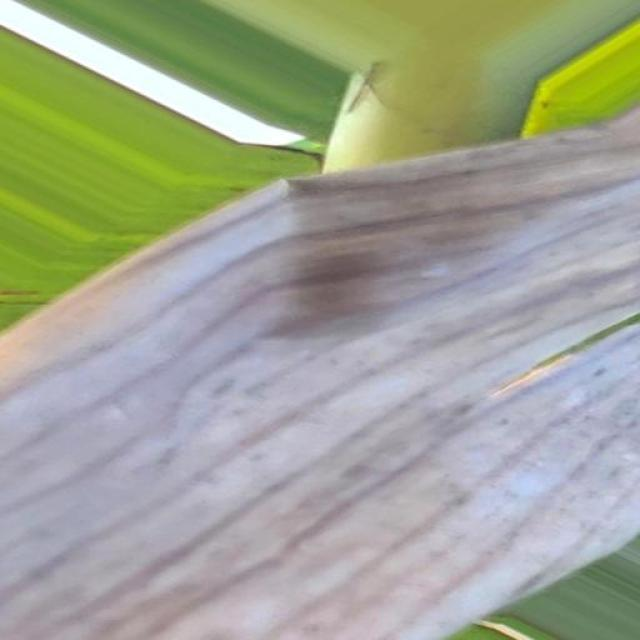Bract_mosaic_virus: (297, 102, 640, 626), (1, 312, 444, 640), (28, 177, 320, 356)
